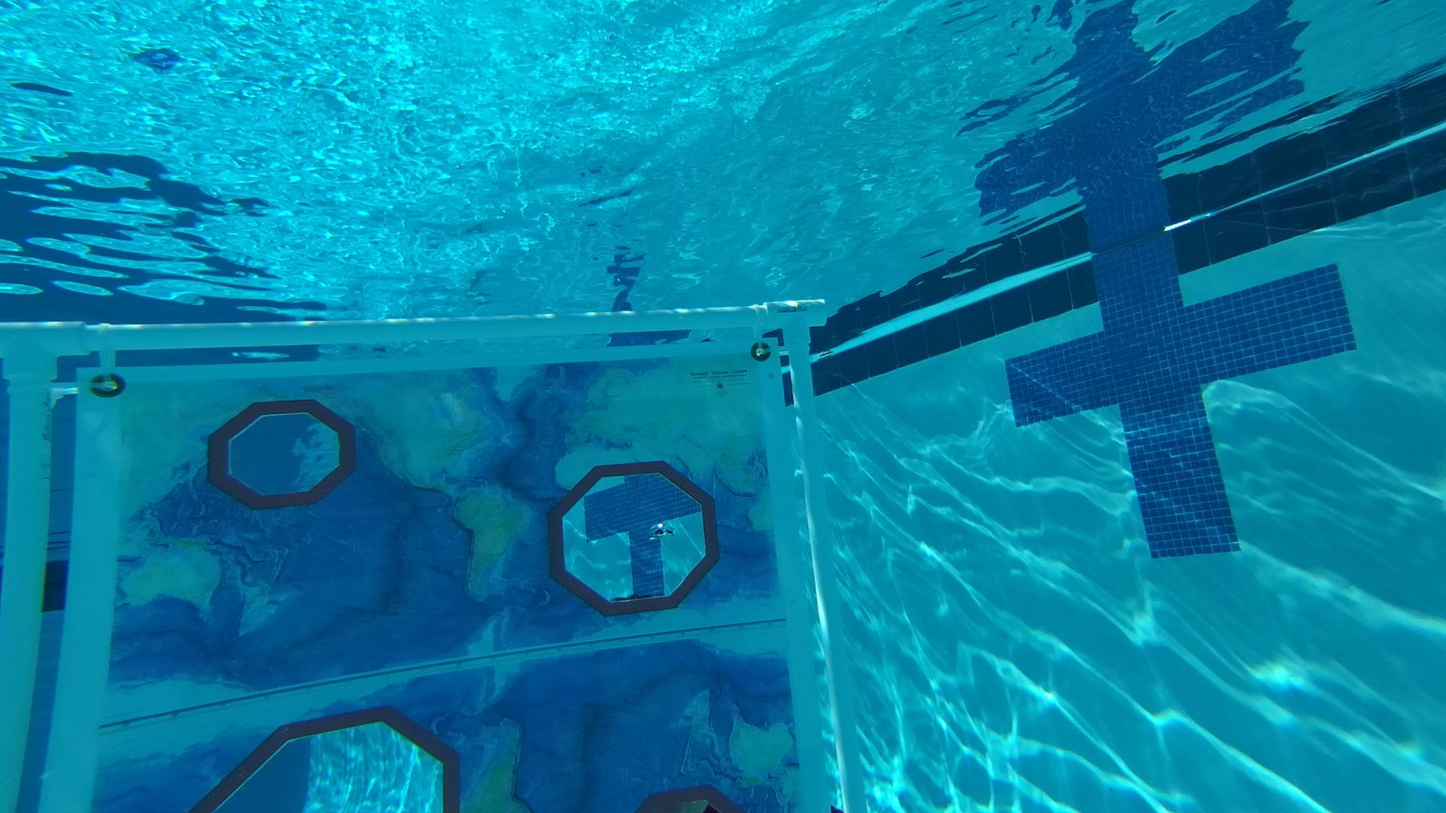red octagon: (197, 703, 455, 813), (545, 457, 721, 618), (207, 396, 359, 506), (628, 785, 750, 813)
